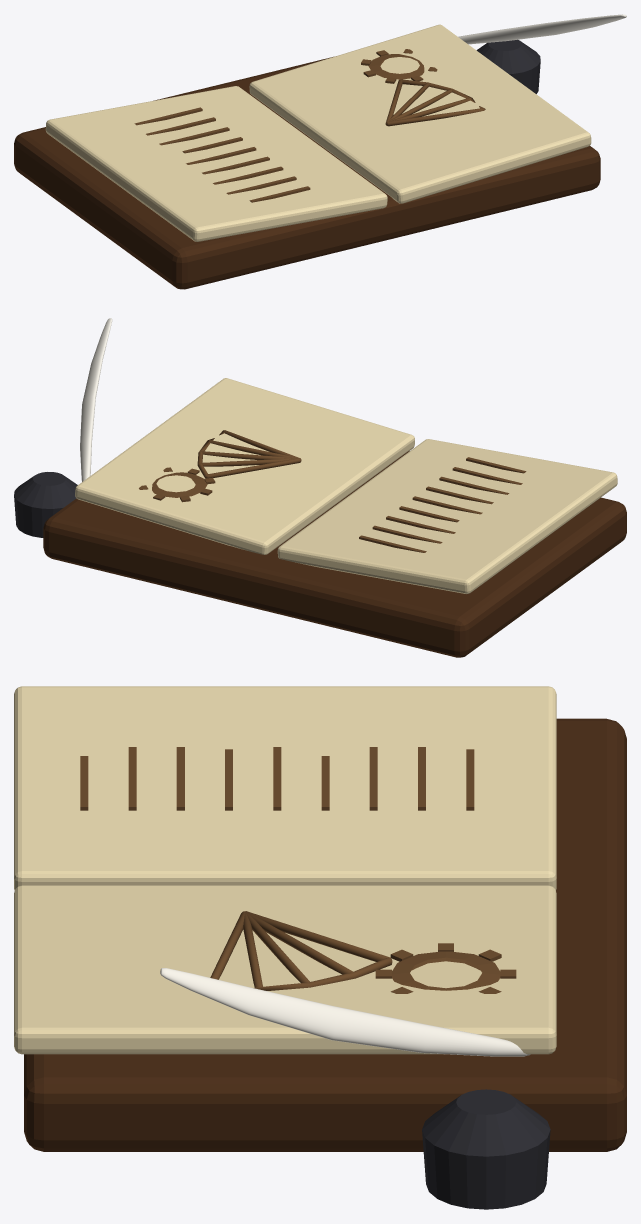
Rendered from codice_leonardo.glb.
3 views of the same model, one above another, from view 1: azimuth 30°, elevation 25°; view 2: azimuth 150°, elevation 25°; view 3: azimuth 270°, elevation 25° (orthographic). The views are drawn at different scales.
Visible parts, largest first — view 1: hoja1, hoja-1, apoyo, tintero, pluma, engranaje, varilla0; view 2: apoyo, hoja1, hoja-1, tintero, pluma, engranaje, varilla4; view 3: hoja-1, apoyo, hoja1, tintero, pluma, engranaje, varilla4, varilla3, borde_ala, varilla2.
Boxes of the visible parts, <box> form: hoja1: <box>249,24,591,203</box>; hoja-1: <box>45,86,387,241</box>; apoyo: <box>14,56,600,289</box>; tintero: <box>476,39,540,93</box>; pluma: <box>458,14,626,44</box>; engranaje: <box>368,54,424,79</box>; varilla0: <box>387,108,484,126</box>; apoyo: <box>43,451,626,657</box>; hoja1: <box>75,378,414,554</box>; hoja-1: <box>277,439,617,593</box>; tintero: <box>14,472,77,537</box>; pluma: <box>80,318,112,481</box>; engranaje: <box>152,472,207,497</box>; varilla4: <box>206,458,301,478</box>; hoja-1: <box>14,686,556,890</box>; apoyo: <box>24,718,626,1151</box>; hoja1: <box>14,885,556,1054</box>; tintero: <box>422,1089,550,1209</box>; pluma: <box>160,968,530,1056</box>; engranaje: <box>392,951,500,990</box>; varilla4: <box>245,911,391,961</box>; varilla3: <box>245,911,353,974</box>; borde_ala: <box>254,957,392,990</box>; varilla2: <box>245,912,309,982</box>.
Bounding box in the file's own units: 0.5027 × 0.1321 × 0.305.
